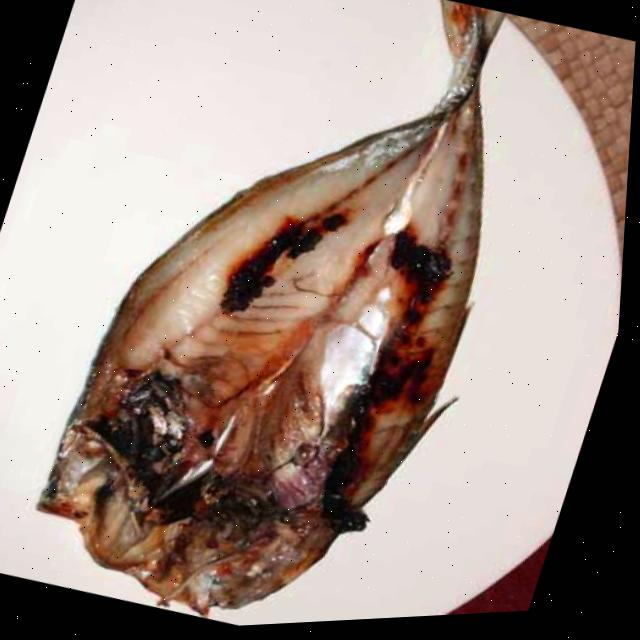熟制海鲜: (25, 0, 587, 638)
